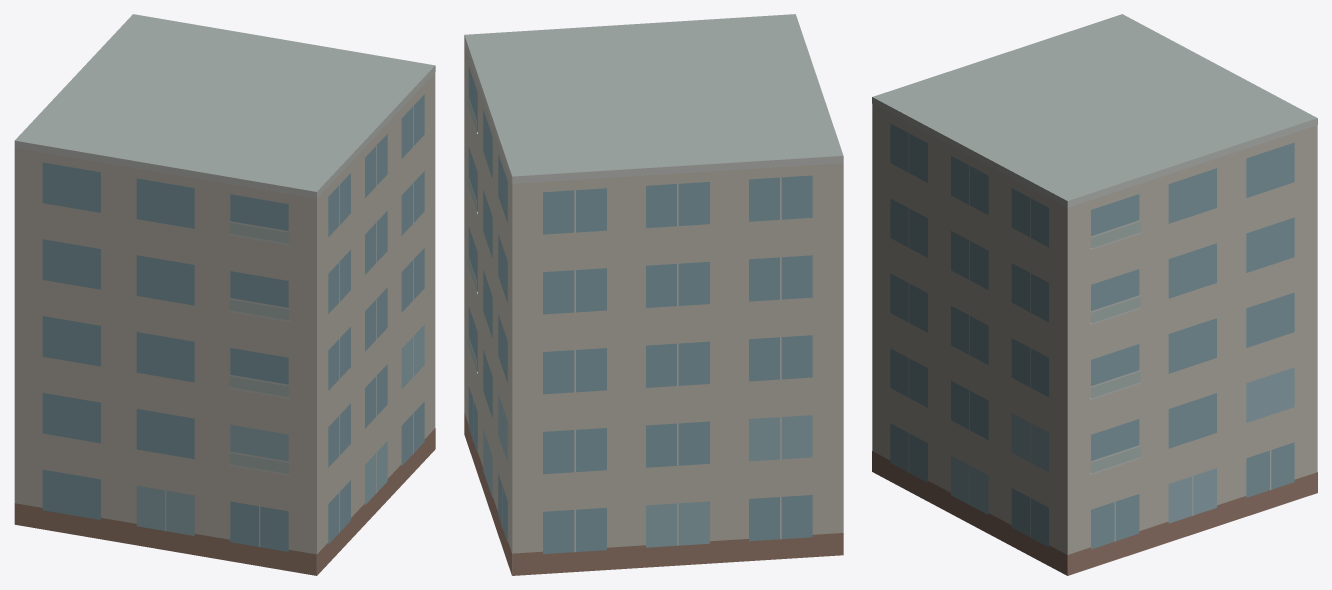
Rendered from survey-upis-32853030.glb.
3 views of the same model, side by side, from view 1: azimuth 30°, elevation 25°; view 2: azimuth 150°, elevation 25°; view 3: azimuth 270°, elevation 25° (orthographic). The views are drawn at different scales.
Visible parts, largest first — view 1: survey-upis-32853030.tmp; view 2: survey-upis-32853030.tmp; view 3: survey-upis-32853030.tmp.
Part boxes in pixels (x1,y1,x2,y2): survey-upis-32853030.tmp: [14, 14, 435, 575]; survey-upis-32853030.tmp: [464, 14, 843, 575]; survey-upis-32853030.tmp: [872, 14, 1317, 575].
Bounding box in the file's own units: 14.41 × 13.45 × 14.5.
